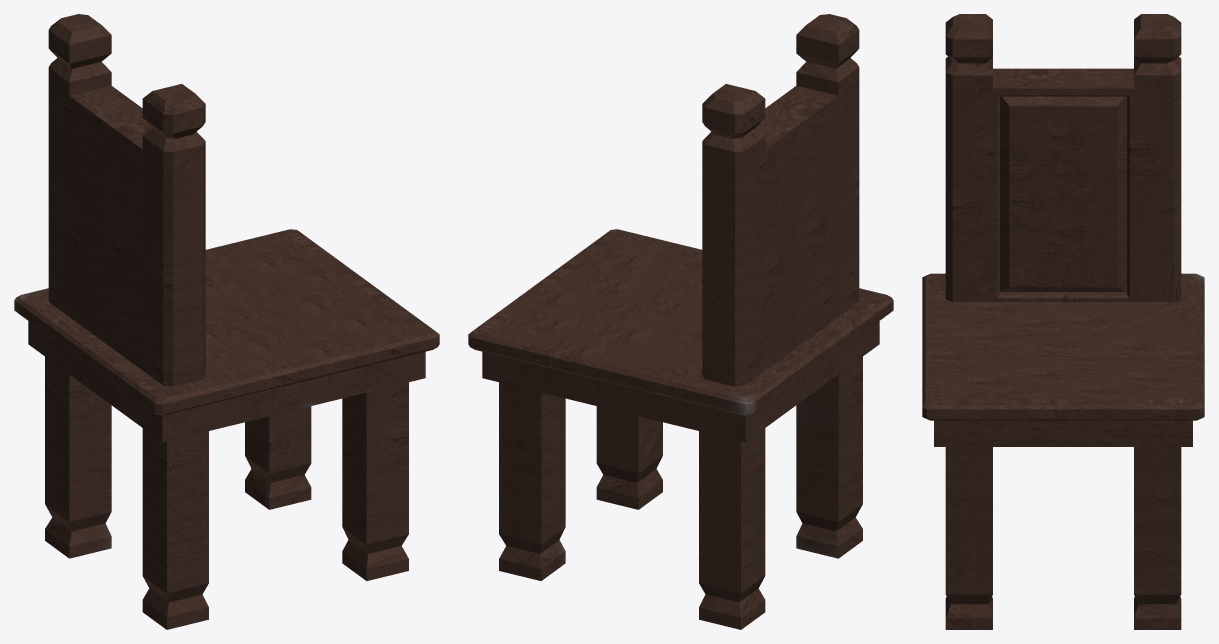
File: DinningRoomChairComplete.fbx
3 renders of one model, left to right at view 1: azimuth 30°, elevation 25°; view 2: azimuth 150°, elevation 25°; view 3: azimuth 270°, elevation 25°, orthographic. The views are drawn at different scales.
Parts seen in each view (by area): view 1: DinningChair; view 2: DinningChair; view 3: DinningChair.
Boxes of the visible parts, x1,y1,x2,y2 form: DinningChair: (14,14,439,629); DinningChair: (468,14,893,629); DinningChair: (922,14,1204,629).
Size of the model in its own units: 110 by 193 by 97.93.
1 material, 1 textured.
